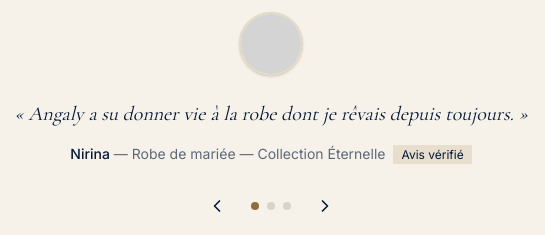
Test: TestimonialsCarousel › renders the first testimonial once loaded, keyboard-navigable via the next/previous buttons
Expected: the text "Nirina" is shown, [70,145,110,162]
Expected: the text "Avis vérifié" is shown, [394,145,472,164]
Step 1. Click the button named "Témoignage suivant" → (325, 206), box [315,196,335,216]
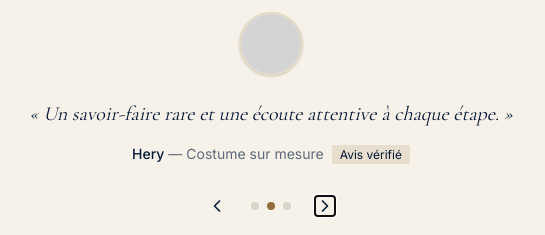
Now the text "Hery" is shown, box [132,145,164,162]
Step 2. Click the button named "Témoignage précédent" → (217, 206), box [207,196,227,216]
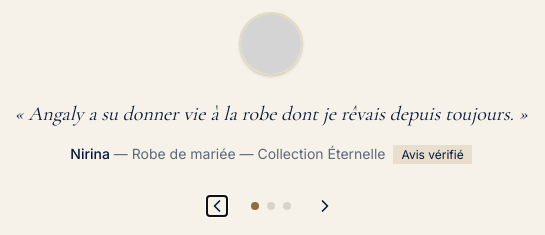
Now the text "Nirina" is shown, box [70,145,110,162]
